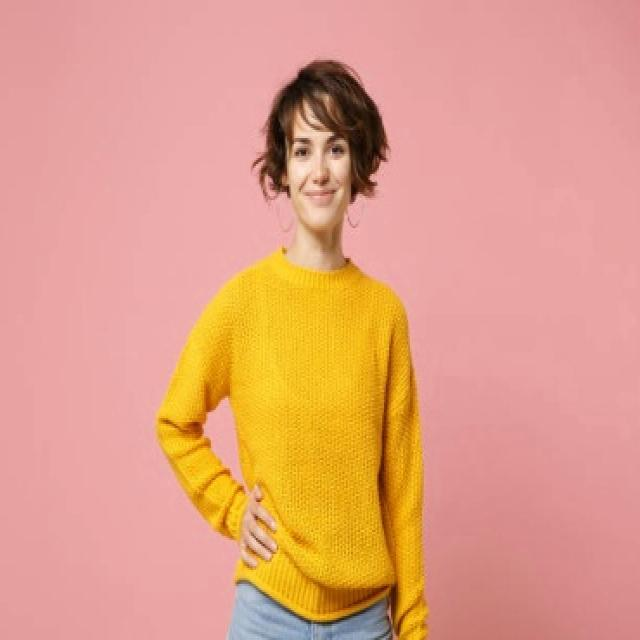adult: (131, 52, 457, 640)
